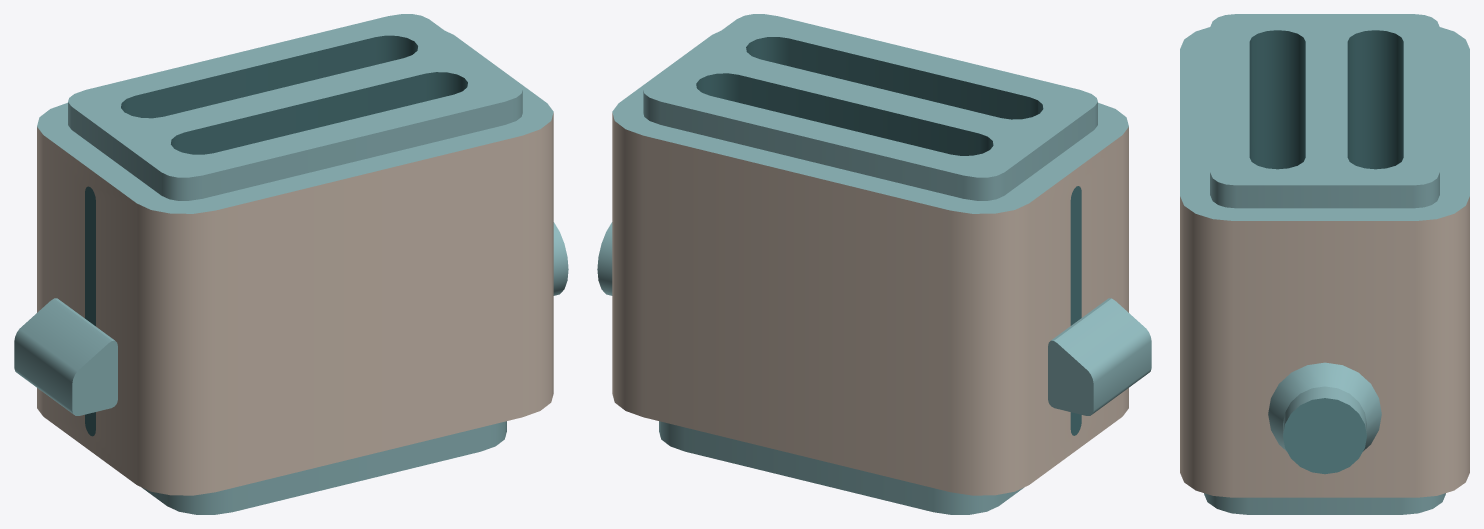
The model's file is Toaster B.fbx.
3 renders of one model, left to right at view 1: azimuth 30°, elevation 25°; view 2: azimuth 150°, elevation 25°; view 3: azimuth 270°, elevation 25°, orthographic.
Visible parts, largest first — view 1: Tosater B, Tosater B.001, Tosater B.002; view 2: Tosater B, Tosater B.001, Tosater B.002; view 3: Tosater B, Tosater B.002.
Boxes of the visible parts, x1,y1,x2,y2 form: Tosater B: [37, 14, 553, 514]; Tosater B.001: [14, 298, 117, 415]; Tosater B.002: [553, 222, 568, 295]; Tosater B: [612, 14, 1128, 514]; Tosater B.001: [1048, 298, 1151, 415]; Tosater B.002: [597, 222, 612, 295]; Tosater B: [1180, 14, 1469, 514]; Tosater B.002: [1268, 362, 1381, 474].
Bounding box in the file's own units: 0.7393 × 0.4783 × 0.3748.
